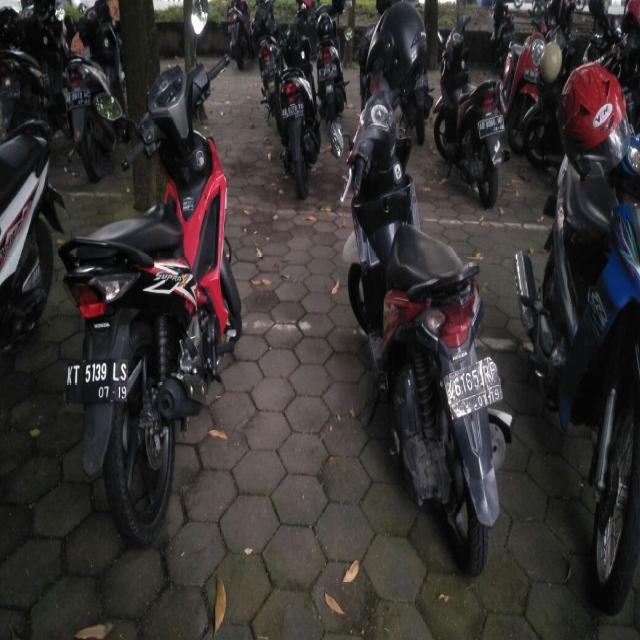plate: (445, 352, 501, 416), (63, 356, 128, 401), (476, 110, 504, 139), (280, 101, 304, 119)
